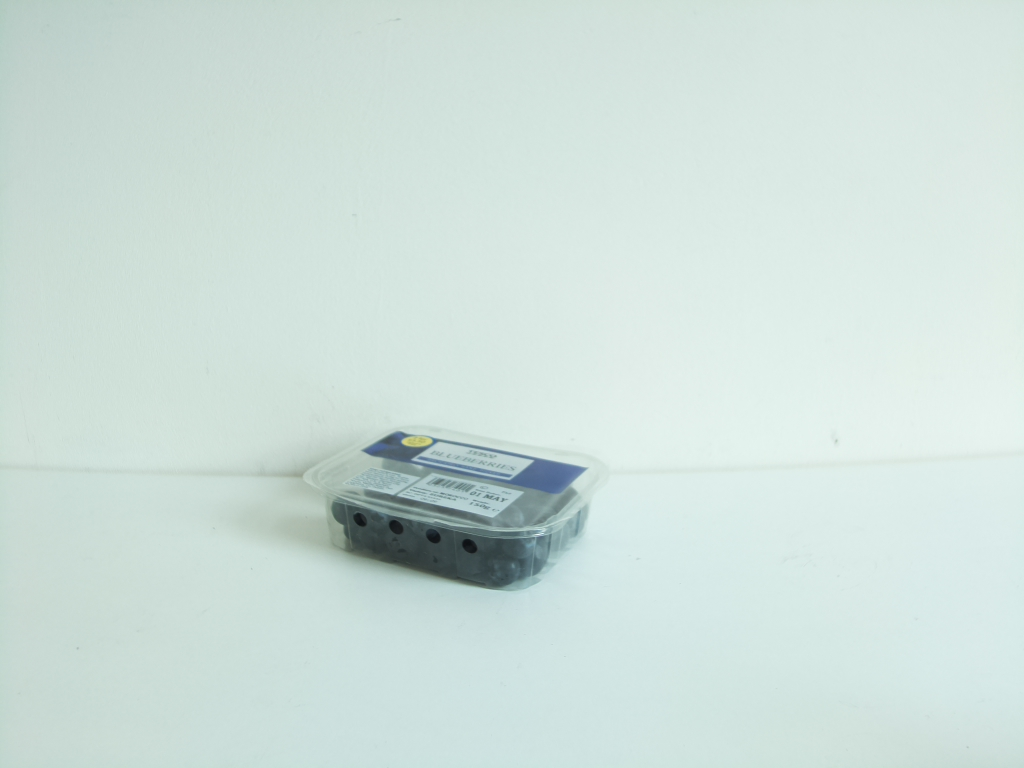soft-fruit: (310, 426, 605, 589)
